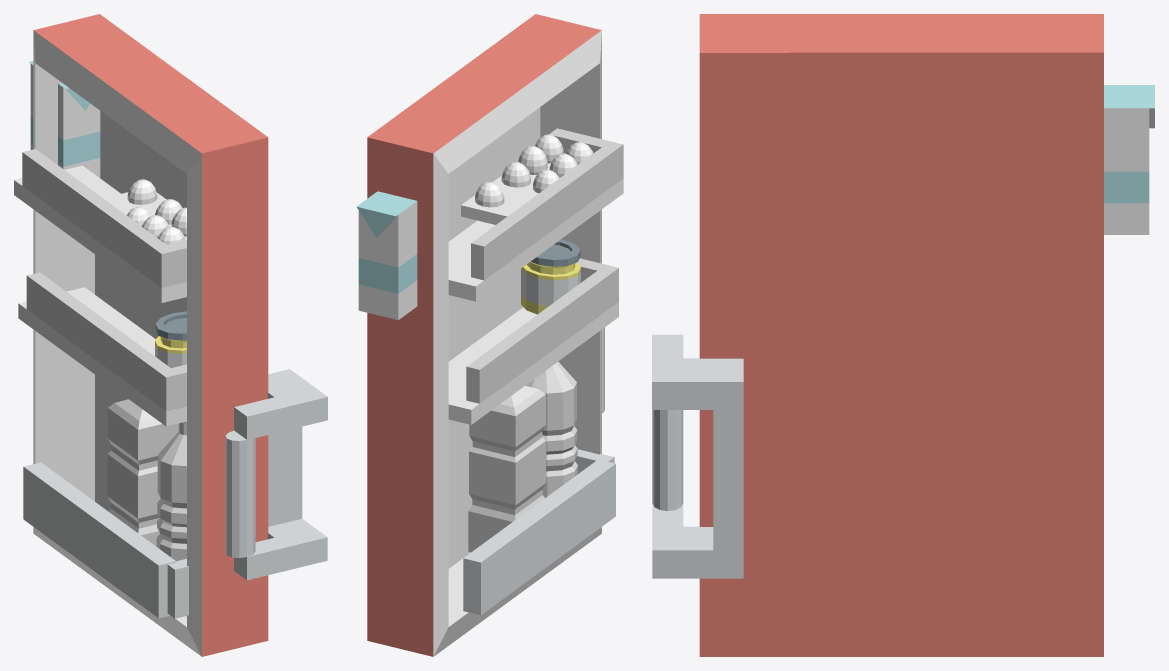
File: fridgedoor.fbx
3 views of the same model, side by side, from view 1: azimuth 30°, elevation 25°; view 2: azimuth 150°, elevation 25°; view 3: azimuth 270°, elevation 25° (orthographic). The views are drawn at different scales.
Parts seen in each view (by area): view 1: pasted__mesh_2146895710, pasted__mesh_2146895727, pasted__mesh_2146895711, pasted__mesh_2146895730, pasted__mesh_2146895705, pasted__mesh_2146895729, pasted__mesh_2146895707, pasted__mesh_2146895709, pasted__mesh_2146895706, pasted__mesh_2146895712, pasted__mesh_2146895714, pasted__mesh_2146895702 (+7 smaller); view 2: pasted__mesh_2146895710, pasted__mesh_2146895727, pasted__mesh_2146895730, pasted__mesh_2146895706, pasted__mesh_2146895705, pasted__mesh_2146895729, pasted__mesh_2146895707, pasted__mesh_2146895714, pasted__mesh_2146895712, pasted__mesh_2146895708, pasted__mesh_2146895719, pasted__mesh_2146895704 (+8 smaller); view 3: pasted__mesh_2146895710, pasted__mesh_2146895711, pasted__mesh_2146895706, pasted__mesh_2146895702, pasted__mesh_2146895709, pasted__mesh_2146895722.
Boxes of the visible parts, box(x1,y1,x2,y2) form: pasted__mesh_2146895710: box(33, 14, 268, 656); pasted__mesh_2146895727: box(23, 462, 176, 618); pasted__mesh_2146895711: box(234, 426, 327, 580); pasted__mesh_2146895730: box(107, 399, 178, 546); pasted__mesh_2146895705: box(26, 272, 170, 404); pasted__mesh_2146895729: box(22, 149, 166, 281); pasted__mesh_2146895707: box(18, 287, 186, 426); pasted__mesh_2146895709: box(225, 430, 255, 557); pasted__mesh_2146895706: box(29, 61, 100, 177); pasted__mesh_2146895712: box(156, 422, 186, 561); pasted__mesh_2146895714: box(14, 165, 186, 302); pasted__mesh_2146895702: box(234, 369, 327, 439); pasted__mesh_2146895710: box(367, 14, 601, 656); pasted__mesh_2146895727: box(463, 459, 615, 615); pasted__mesh_2146895730: box(468, 385, 546, 552); pasted__mesh_2146895706: box(356, 191, 417, 320); pasted__mesh_2146895705: box(466, 270, 610, 403); pasted__mesh_2146895729: box(471, 147, 615, 280); pasted__mesh_2146895707: box(448, 302, 618, 424); pasted__mesh_2146895714: box(448, 178, 623, 301); pasted__mesh_2146895712: box(525, 361, 577, 497); pasted__mesh_2146895708: box(521, 239, 580, 314); pasted__mesh_2146895719: box(461, 153, 565, 224); pasted__mesh_2146895704: box(549, 128, 623, 183); pasted__mesh_2146895710: box(699, 14, 1103, 656); pasted__mesh_2146895711: box(652, 410, 743, 578); pasted__mesh_2146895706: box(1104, 85, 1154, 234); pasted__mesh_2146895702: box(652, 334, 743, 409); pasted__mesh_2146895709: box(652, 410, 683, 510); pasted__mesh_2146895722: box(652, 334, 743, 409).
Bounding box in the file's own units: 35.54 × 125 × 94.08.
